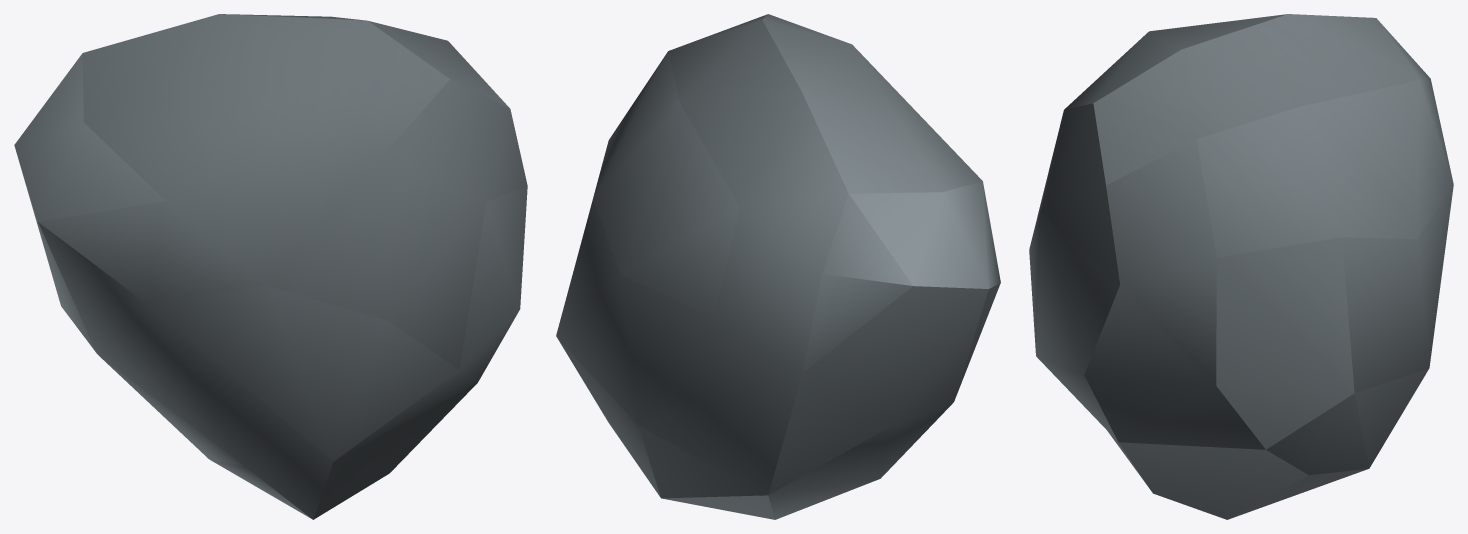
Rendered from Rock_3_D_Color1.glb.
3 views of the same model, side by side, from view 1: azimuth 30°, elevation 25°; view 2: azimuth 150°, elevation 25°; view 3: azimuth 270°, elevation 25° (orthographic).
Visible parts, largest first — view 1: Rock_3_D_Color1; view 2: Rock_3_D_Color1; view 3: Rock_3_D_Color1.
Part boxes in pixels (x1,y1,x2,y2): Rock_3_D_Color1: (14, 14, 527, 519); Rock_3_D_Color1: (556, 14, 1000, 519); Rock_3_D_Color1: (1029, 14, 1453, 519).
Bounding box in the file's own units: 0.9325 × 0.9716 × 0.7945.
Materials: 1 (1 with a texture image).
